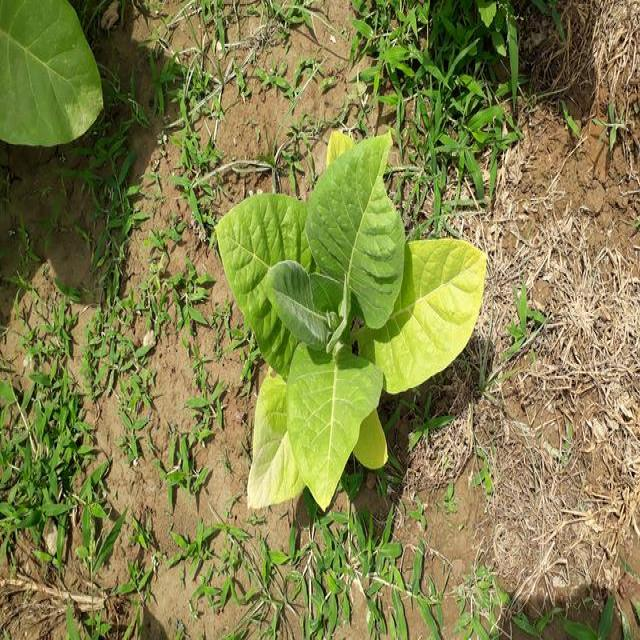crop: (220, 131, 464, 524), (8, 8, 106, 141)
